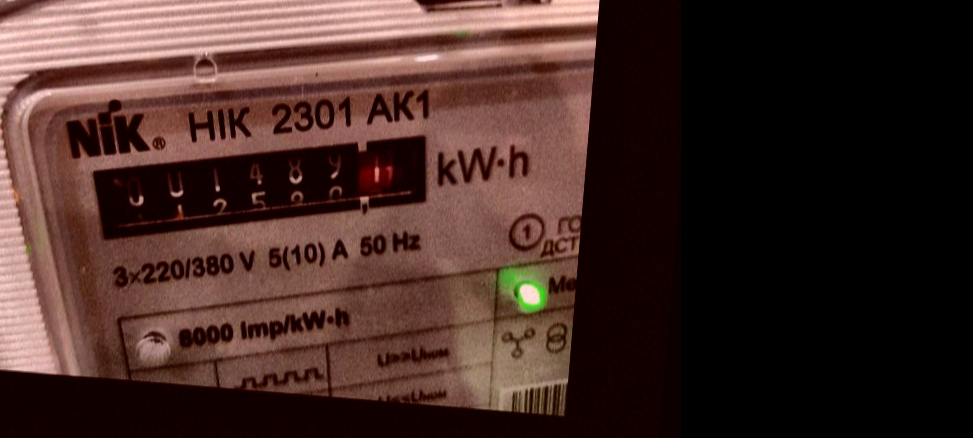0: (159, 163, 188, 201), (120, 174, 147, 211)
1: (364, 148, 386, 187), (203, 163, 226, 195)
4: (242, 156, 266, 188)
8: (282, 151, 306, 189)
9: (322, 148, 344, 182)
screen: (73, 98, 459, 280)
